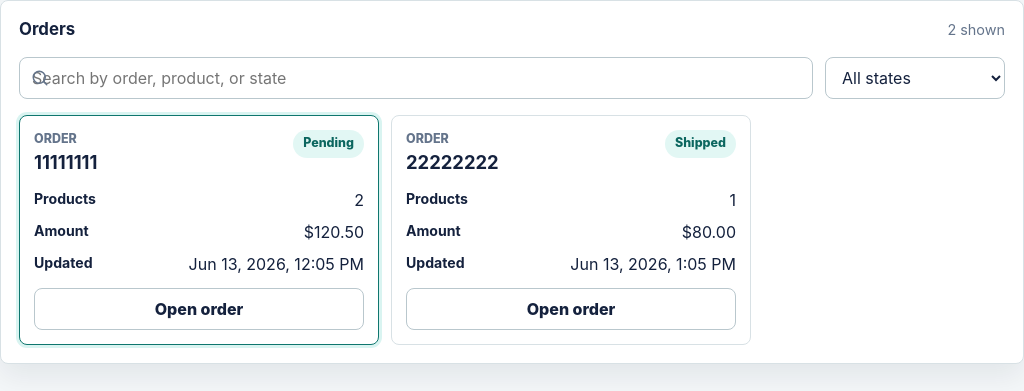
OrderList › filters by state
Step 1. Select "Shipped" in the dropdown named "filter by state" → (915, 78), box 825,57 -> 1005,99
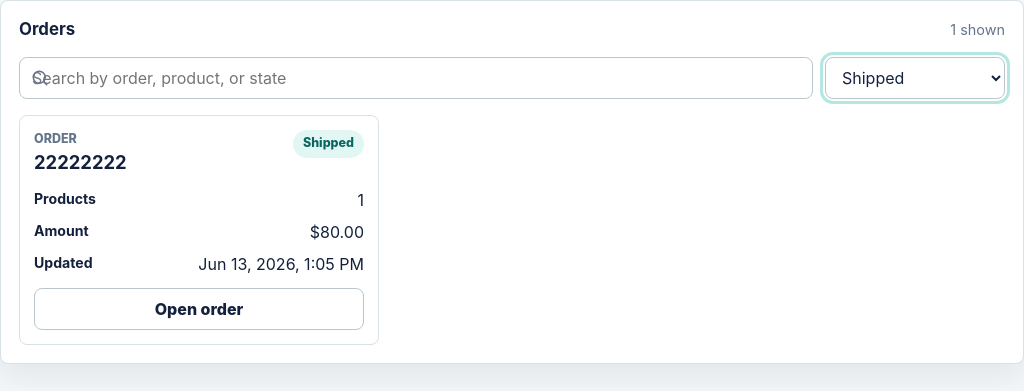
Expected: the heading "22222222" is shown, 34,148 -> 127,176
Expected: the heading "11111111" is gone
